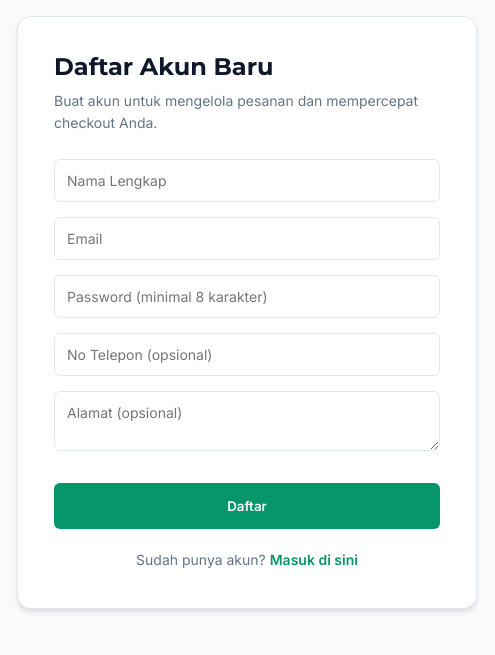
Test: Register page validation › rejects short password
Step 1. Type "Tono" into the field with placeholder "Nama Lengkap" → (247, 180), box top-left (54, 159), bottom-right (440, 202)
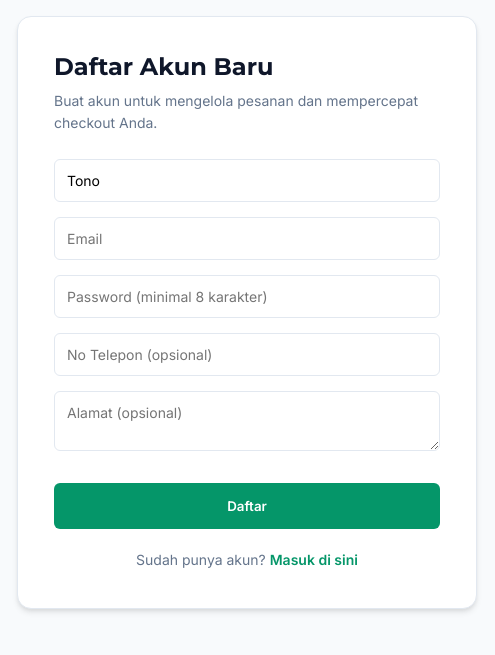
Step 2. Type "a@b.com" into the field with placeholder "Email" → (247, 238), box top-left (54, 217), bottom-right (440, 260)
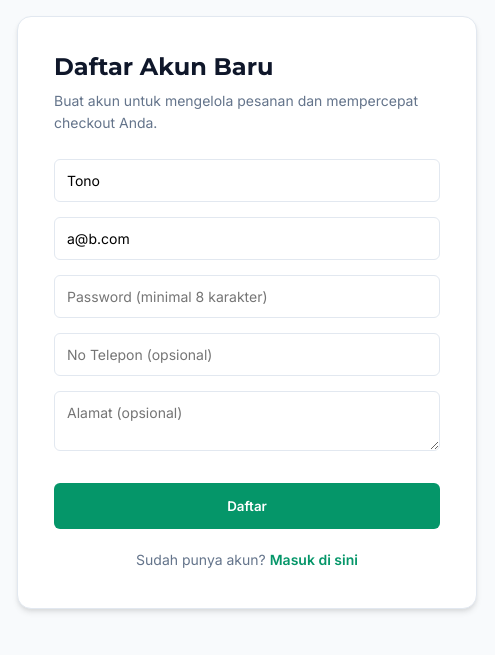
Step 3. Type "123" into the password field with placeholder "Password (minimal 8 karakter)" → (247, 296), box top-left (54, 275), bottom-right (440, 318)
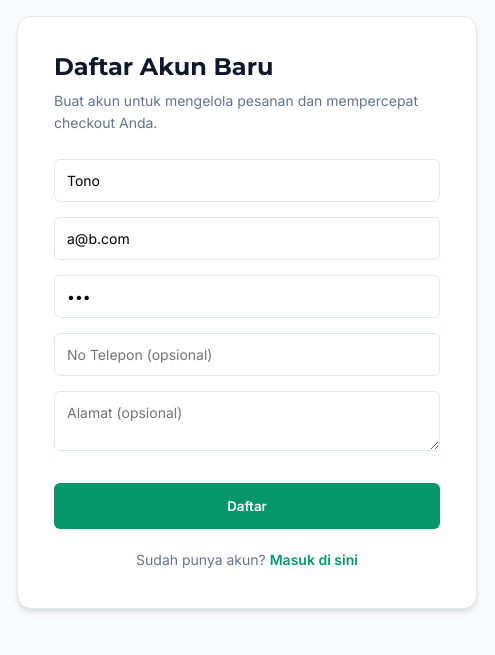
Step 4. Submit the form with placeholder "Nama Lengkap", box top-left (54, 159), bottom-right (440, 529)
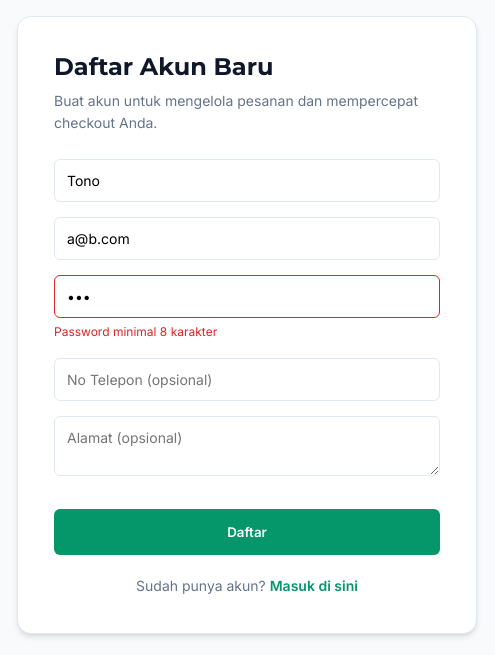
Check: the text "Password minimal 8 karakter" is shown, box top-left (54, 324), bottom-right (217, 339)
